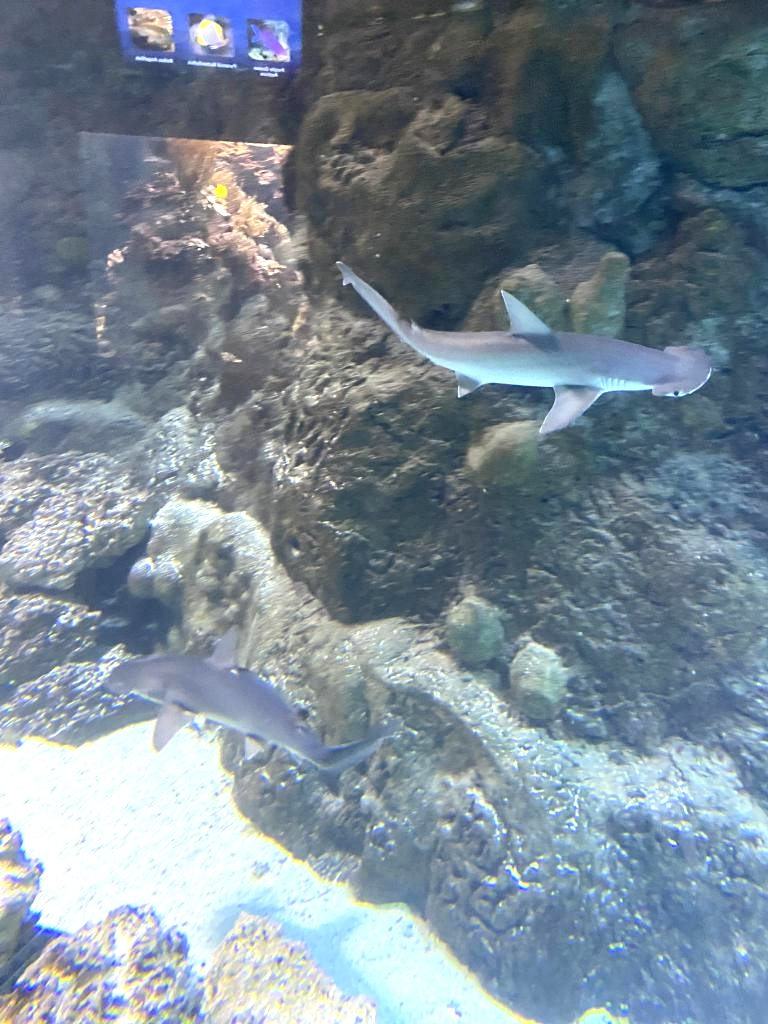shark: (337, 260, 713, 434), (106, 623, 403, 777)
